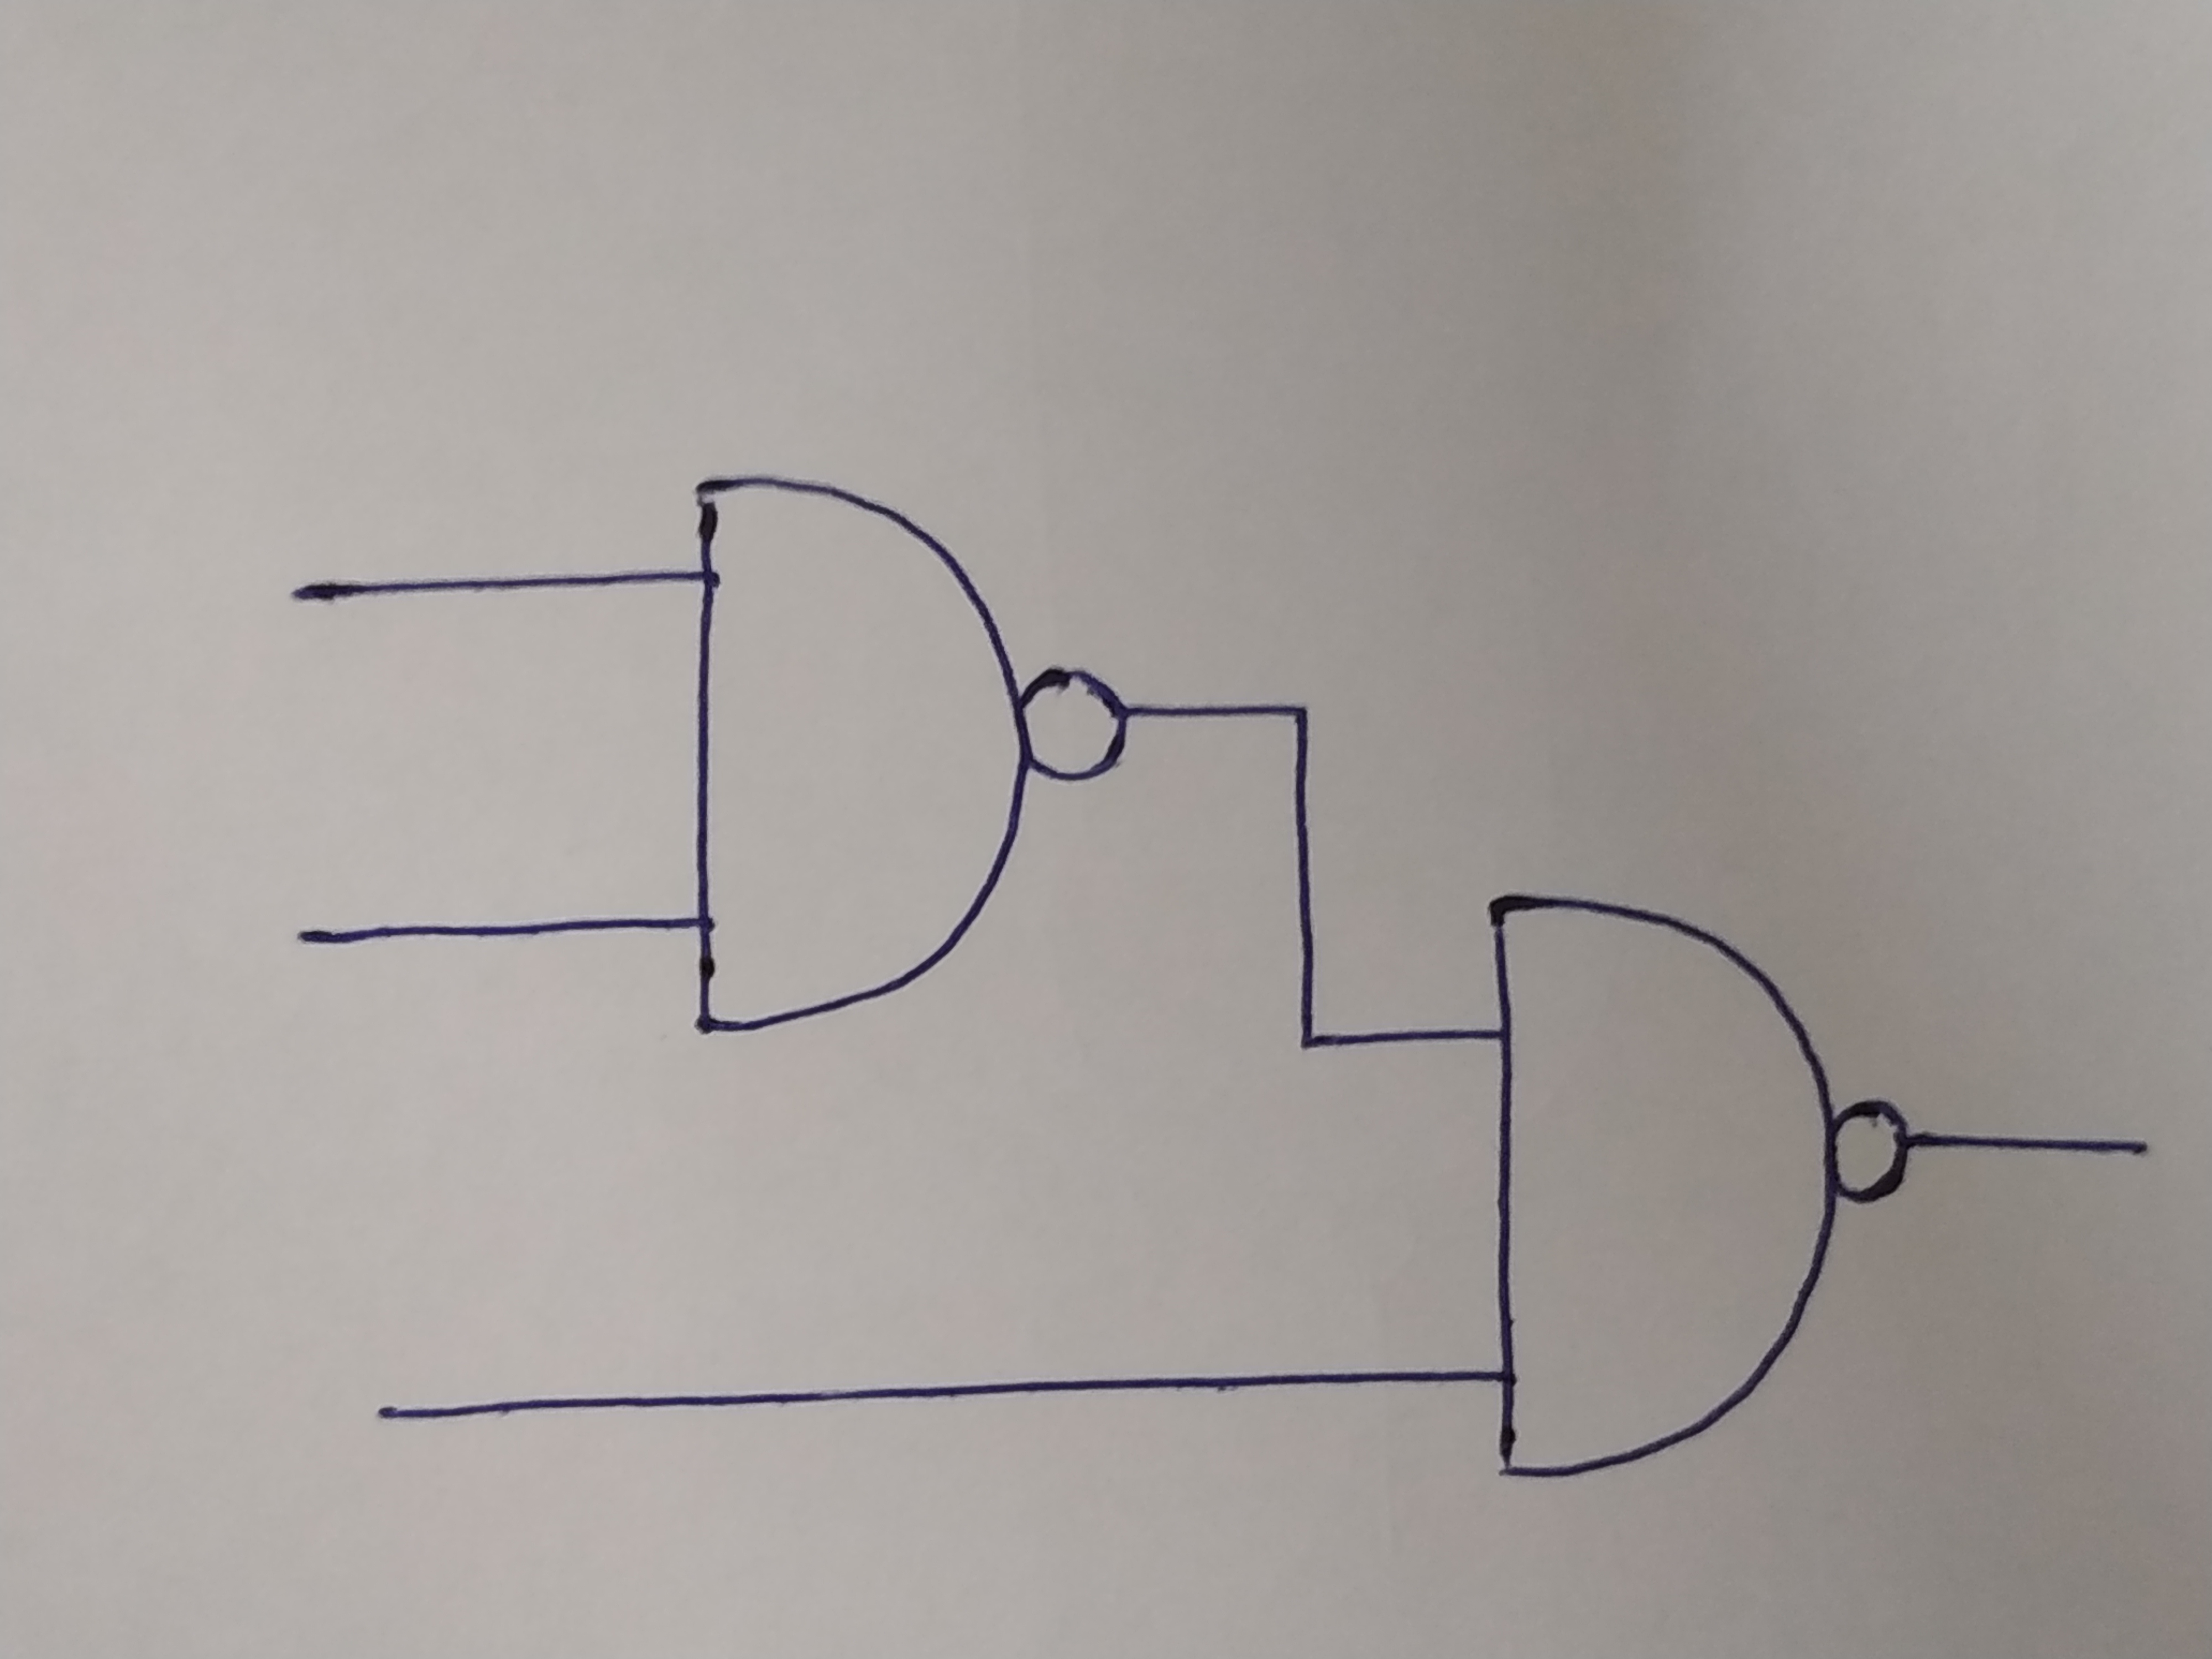and: (1484, 889, 1834, 1460), (698, 474, 1021, 1026)
not: (1028, 671, 1123, 781), (1834, 1093, 1905, 1206)
